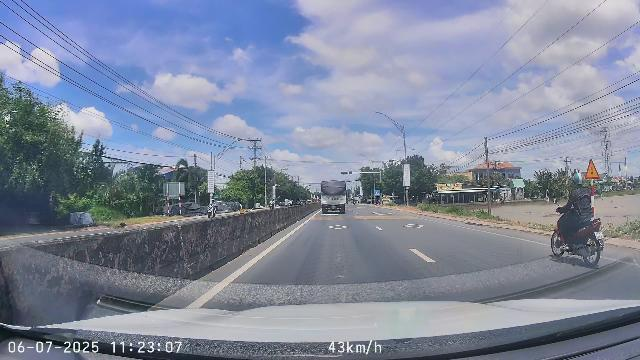209-giao-nhau-co-tin-hieu-den: (585, 158, 600, 179)
423a-duong-nguoi-di-bo-sang-ngang-1: (374, 190, 380, 196)
